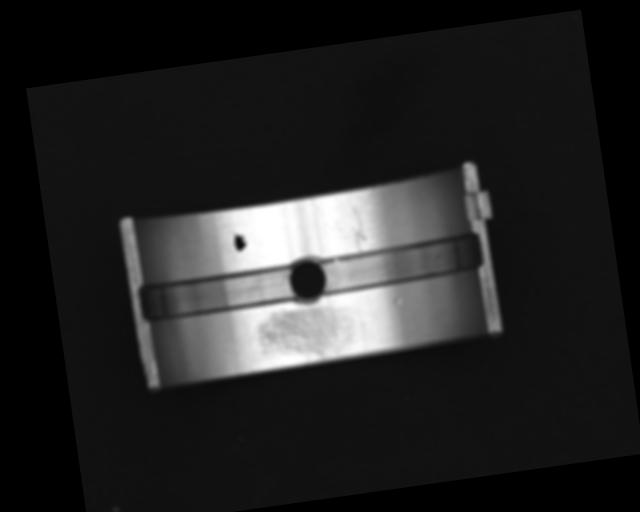blot: (231, 227, 249, 253)
bruise: (390, 295, 403, 307)
gap: (315, 230, 483, 298), (137, 262, 298, 323)
hole: (286, 253, 330, 306)
nick: (347, 202, 369, 253)
scratch: (253, 301, 360, 368)
